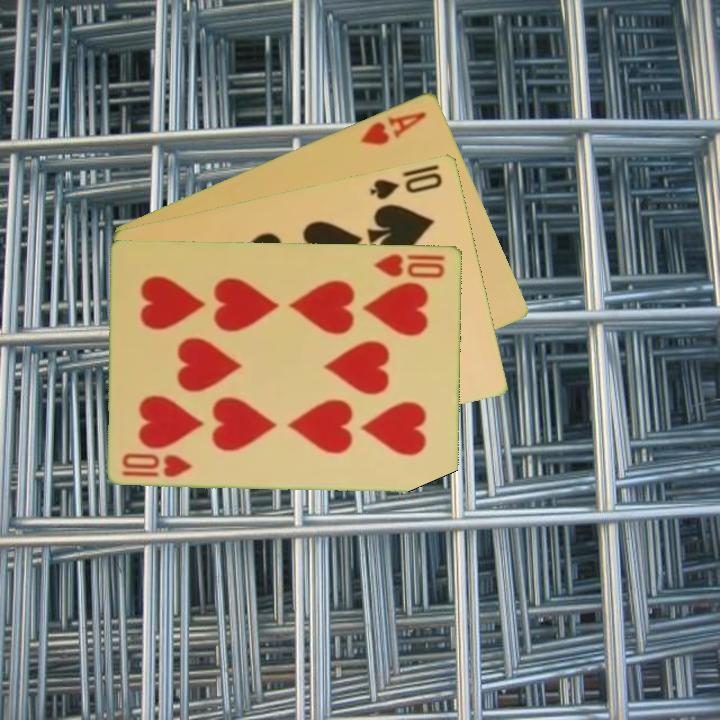10h: (119, 449, 196, 480), (370, 250, 448, 280)
10s: (367, 168, 446, 202)
Ah: (357, 107, 430, 148)
